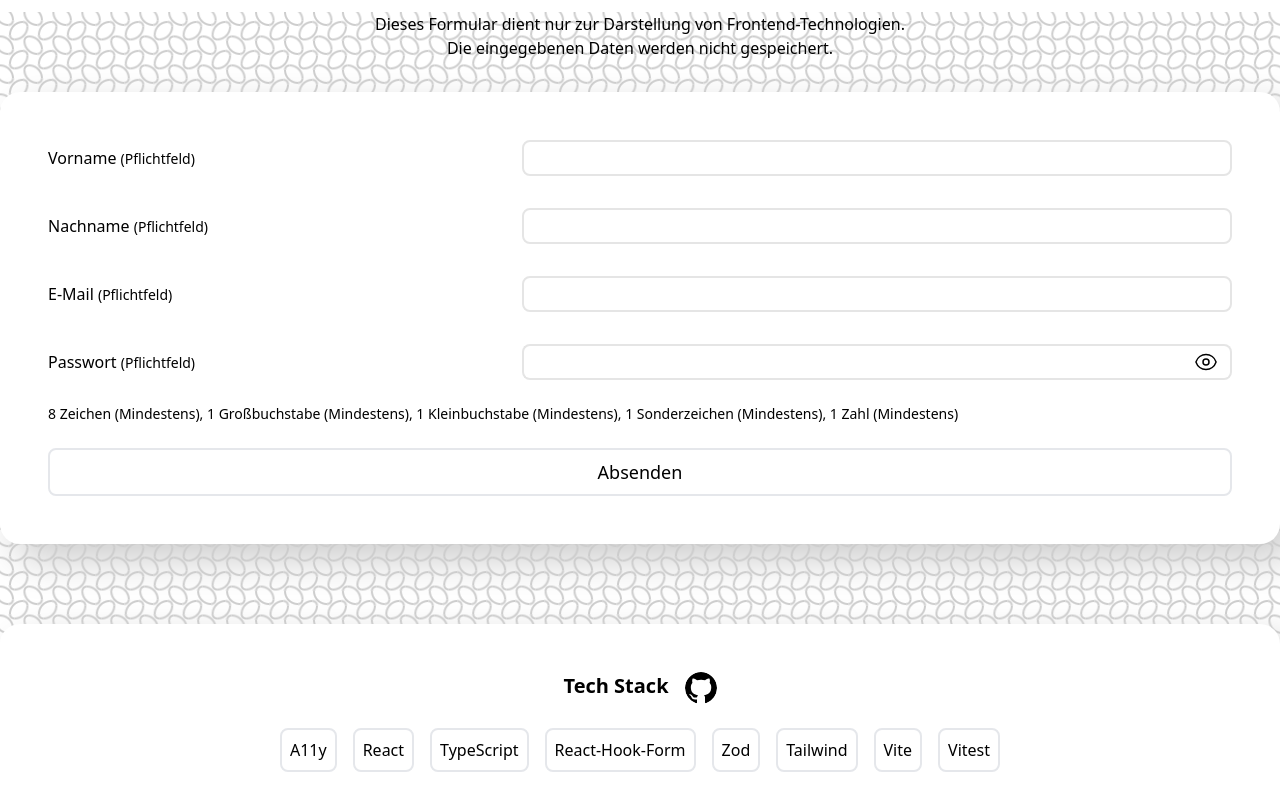
it: Registration Form › should be invalid and display an error message if lastname has less then 2 characters
Step 1. Type "a" into the field labelled "Nachname (Pflichtfeld)" → (877, 226), box [522,208,1232,244]
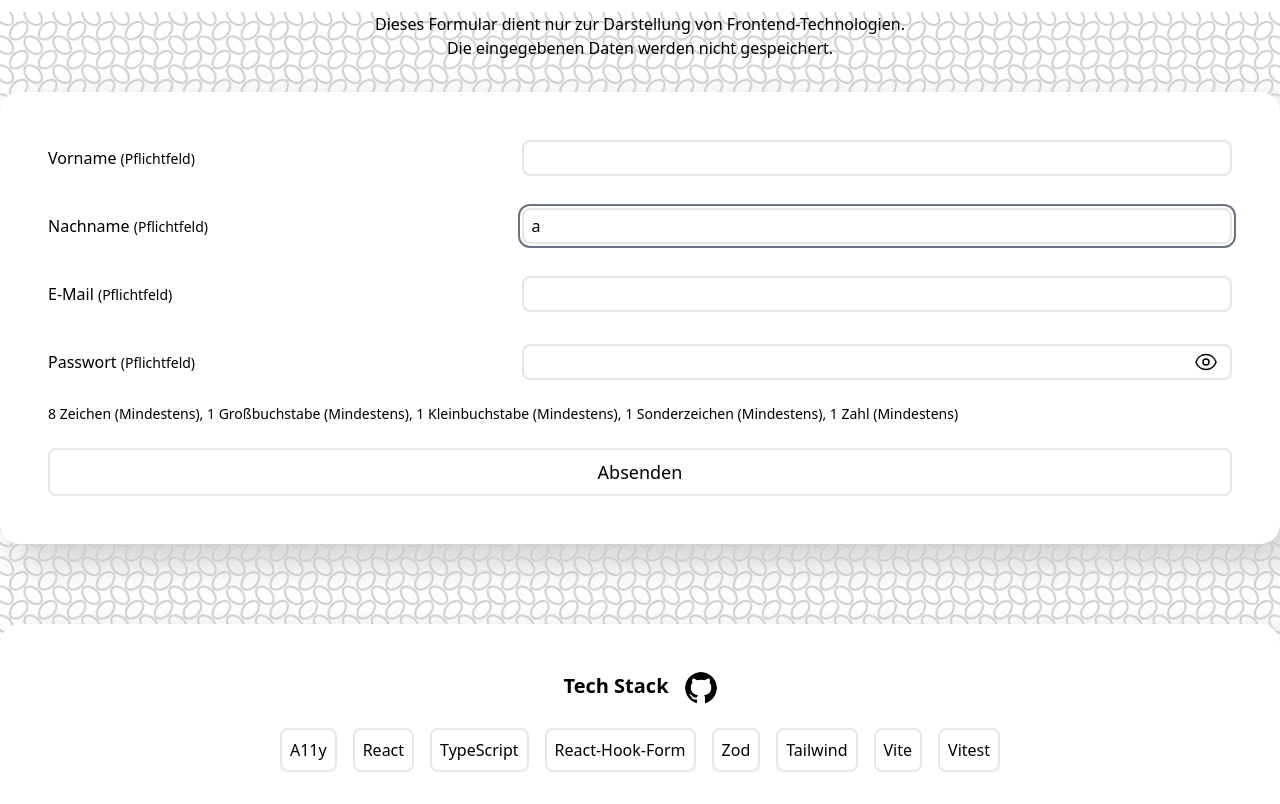
Step 2. Press Tab
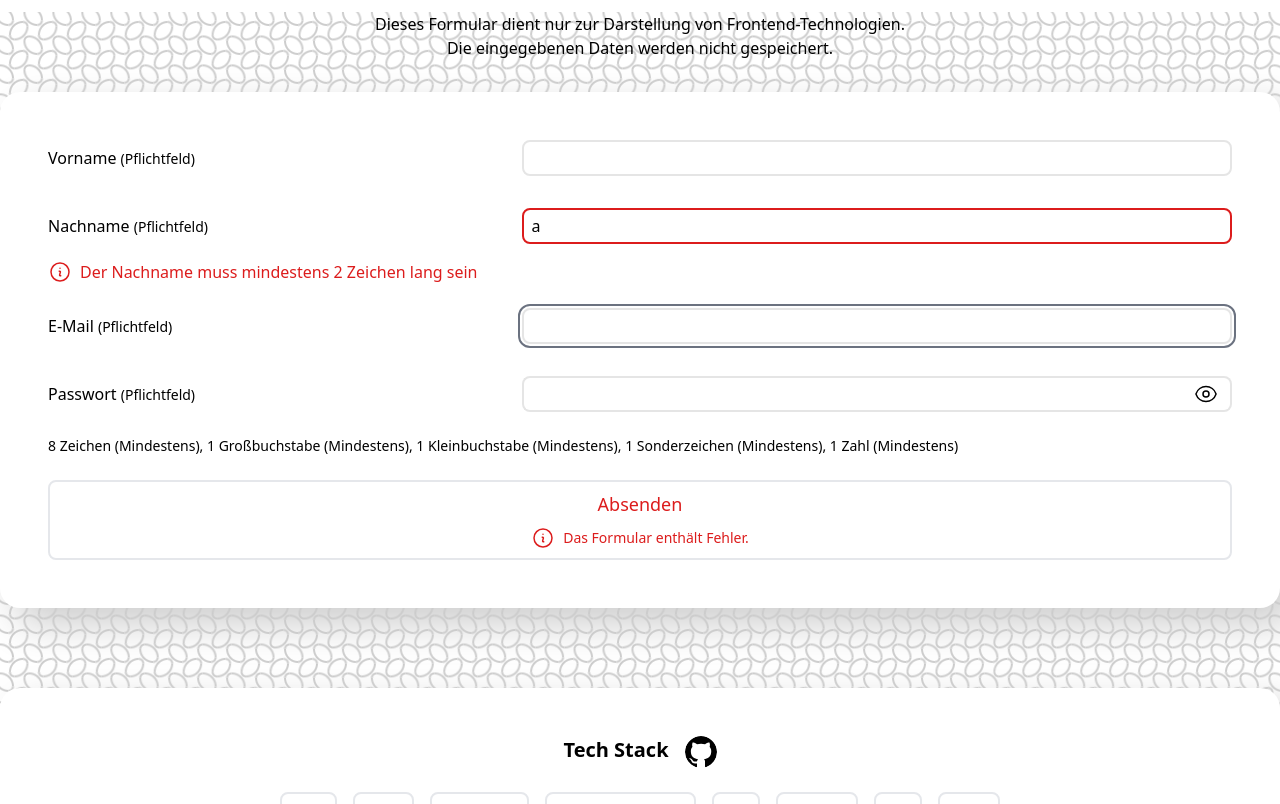
Check: the message shows "Nachname", box [80,261,478,283]
